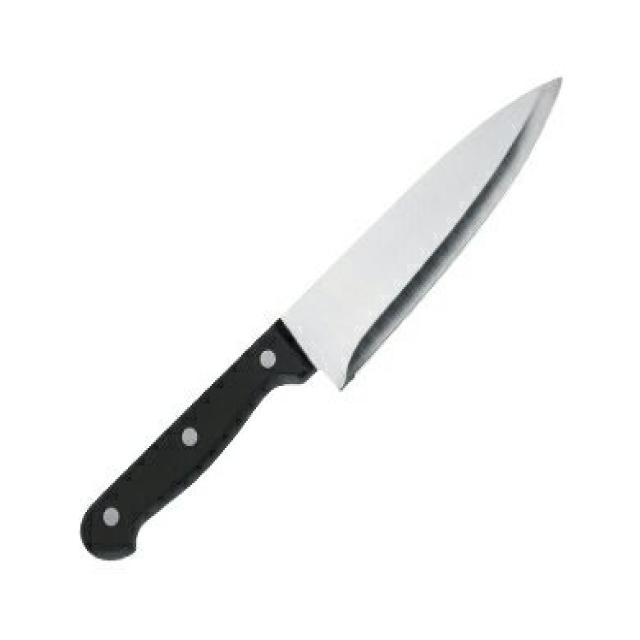Pisau: (64, 69, 575, 581)
